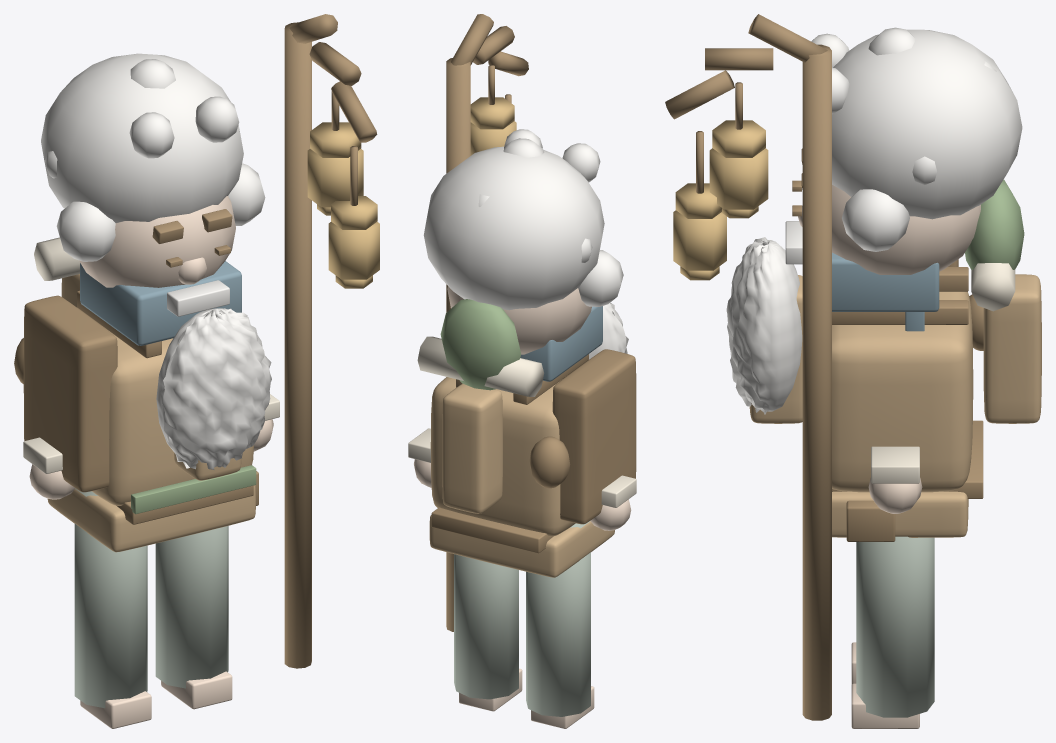
The model's file is npc_eldra_v4_D_displaced.glb.
3 renders of one model, left to right at view 1: azimuth 30°, elevation 25°; view 2: azimuth 150°, elevation 25°; view 3: azimuth 270°, elevation 25°, orthographic. The views are drawn at different scales.
Visible parts, largest first — view 1: Hair_Dome, Staff_Pole, Beard_Mass, Backpack, Trousers_L, Trousers_R, Vest_Body, Head_Mesh, Vest_Skirt, Scarf_Front, Hair_Wisp_L, Lantern_2_Body (+21 smaller); view 2: Hair_Dome, Backpack, Trousers_L, Trousers_R, Vest_Body, Sleeve_R, Backpack_Herb, Vest_Skirt, Staff_Pole, Head_Mesh, Bedroll, Belt (+18 smaller); view 3: Hair_Dome, Vest_Body, Staff_Pole, Trousers_R, Beard_Mass, Sleeve_R, Head_Mesh, Scarf_Front, Vest_Skirt, Backpack_Herb, Hair_Wisp_R, Lantern_1_Body (+18 smaller).
Part boxes in pixels (x1,y1,x2,y2): Hair_Dome: (41, 53, 243, 222); Staff_Pole: (284, 22, 311, 668); Beard_Mass: (156, 308, 271, 469); Backpack: (23, 295, 117, 492); Trousers_L: (74, 488, 147, 708); Trousers_R: (155, 526, 228, 688); Vest_Body: (92, 331, 253, 505); Head_Mesh: (79, 196, 235, 287); Vest_Skirt: (47, 485, 255, 552); Scarf_Front: (80, 261, 241, 345); Hair_Wisp_L: (56, 201, 115, 261); Lantern_2_Body: (328, 221, 379, 279); Hair_Dome: (423, 146, 604, 310); Backpack: (552, 349, 636, 524); Trousers_L: (526, 521, 590, 716); Trousers_R: (454, 554, 518, 699); Vest_Body: (430, 377, 575, 536); Sleeve_R: (442, 383, 502, 513); Backpack_Herb: (440, 299, 520, 390); Vest_Skirt: (429, 515, 614, 577); Staff_Pole: (446, 58, 470, 631); Head_Mesh: (447, 286, 591, 354); Bedroll: (417, 336, 544, 396); Belt: (431, 507, 553, 553); Hair_Dome: (832, 29, 1022, 219); Vest_Body: (832, 291, 973, 492); Staff_Pole: (802, 44, 831, 720); Trousers_R: (856, 536, 934, 717); Beard_Mass: (726, 237, 802, 414); Sleeve_R: (983, 274, 1041, 423); Head_Mesh: (832, 185, 980, 274); Scarf_Front: (832, 252, 939, 311); Vest_Skirt: (832, 491, 968, 537); Backpack_Herb: (965, 179, 1024, 269); Hair_Wisp_R: (842, 189, 909, 251); Lantern_1_Body: (709, 148, 768, 209).
Size of the model in its own units: 0.6143 by 1.67 by 0.7714.
